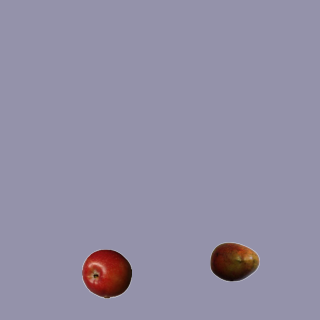Apple Braeburn: (81, 248, 131, 298)
Mango Red: (209, 236, 259, 286)
